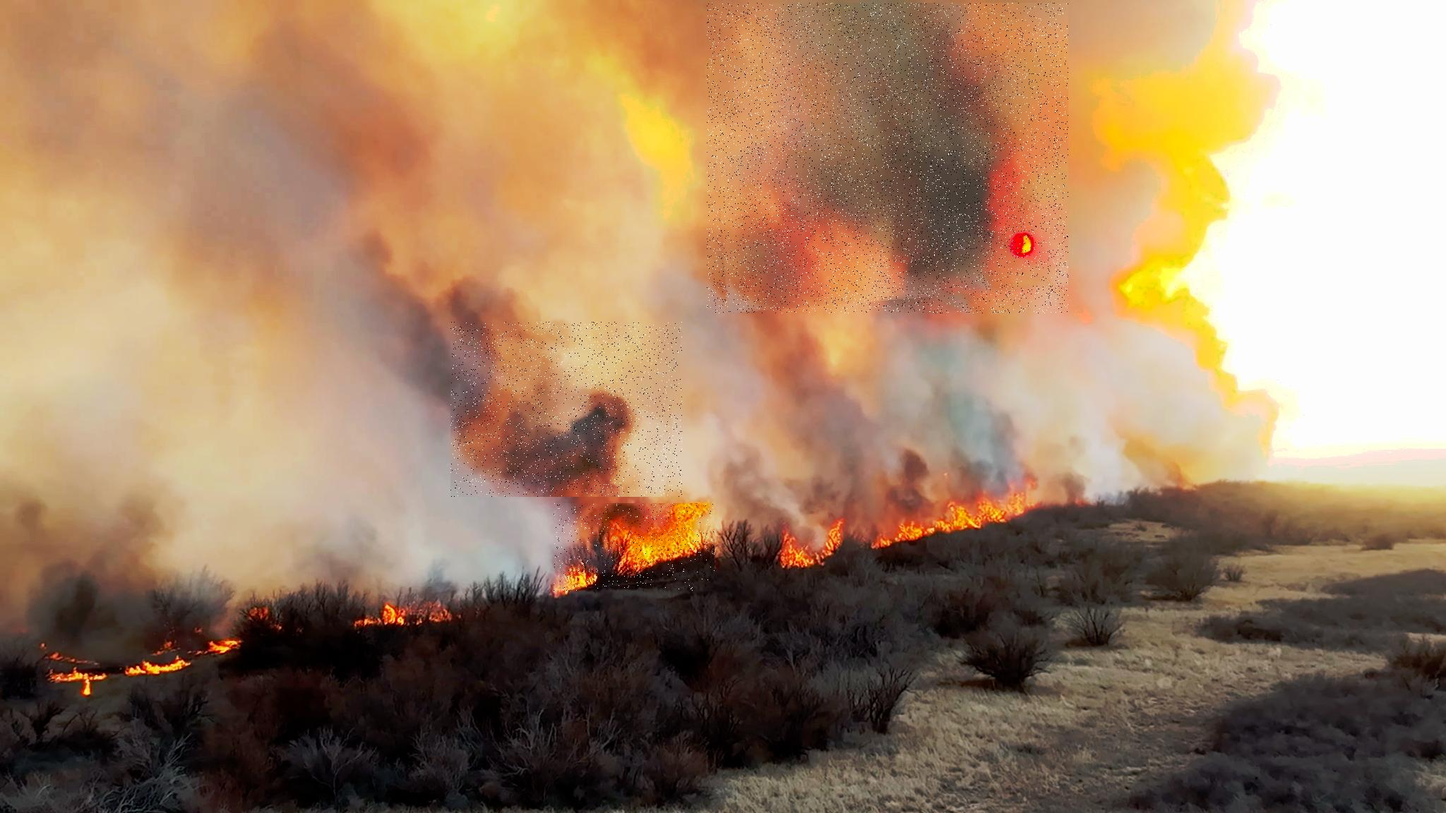fire: (554, 503, 714, 591)
smoke: (707, 3, 1068, 313), (451, 322, 682, 497)
